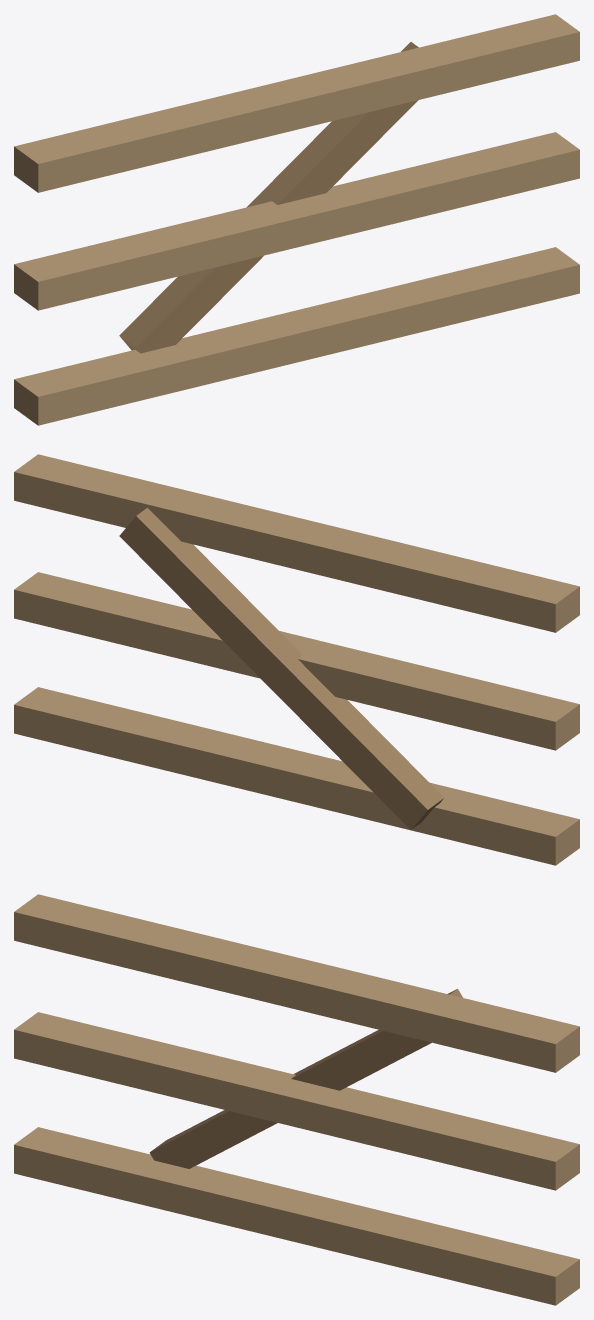
3 views of the same model, one above another, from view 1: azimuth 30°, elevation 25°; view 2: azimuth 150°, elevation 25°; view 3: azimuth 330°, elevation 25° (orthographic).
Parts seen in each view (by area): view 1: fence_pasture; view 2: fence_pasture; view 3: fence_pasture.
Part boxes in pixels (box(x1,y1,x2,y2)): fence_pasture: box(14, 14, 579, 425); fence_pasture: box(14, 454, 579, 865); fence_pasture: box(14, 894, 579, 1305).
Size of the model in its own units: 2.07 by 0.955 by 0.235.
